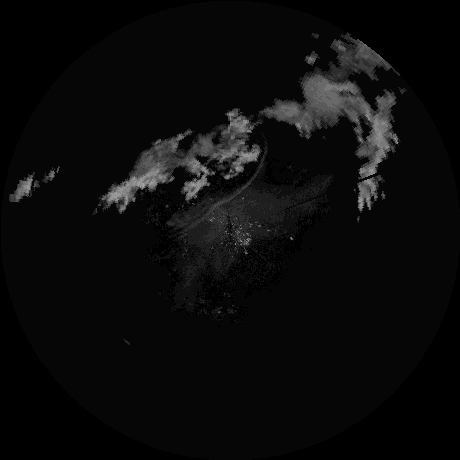frontgust: (198, 137, 267, 225)
